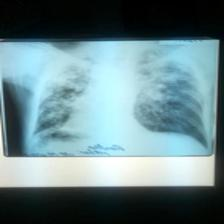tuberculosis: (25, 42, 212, 156)
